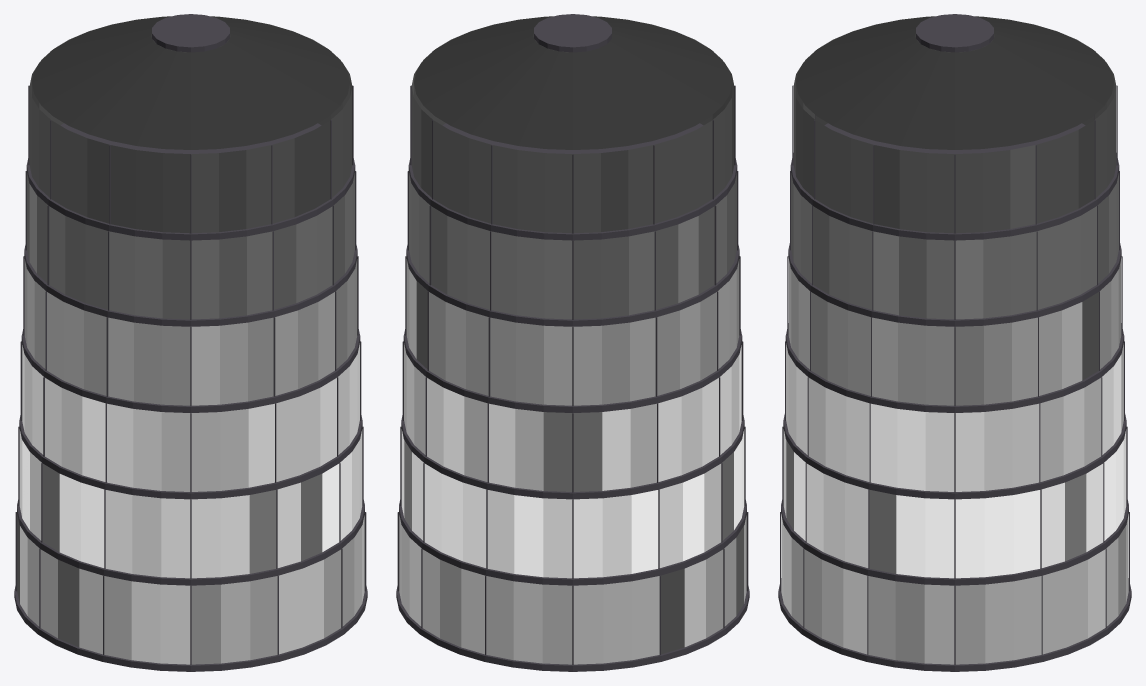
File: great_lantern_bell.glb
3 renders of one model, left to right at view 1: azimuth 30°, elevation 25°; view 2: azimuth 150°, elevation 25°; view 3: azimuth 270°, elevation 25°, orthographic.
Parts seen in each view (by area): view 1: great_lantern_bell; view 2: great_lantern_bell; view 3: great_lantern_bell.
Part boxes in pixels (bbox=[...]): great_lantern_bell: bbox=[14, 14, 367, 671]; great_lantern_bell: bbox=[396, 14, 749, 671]; great_lantern_bell: bbox=[778, 14, 1131, 671].
Size of the model in its own units: 31.3 by 55.4 by 31.3.
Materials: 2 (1 with a texture image).
